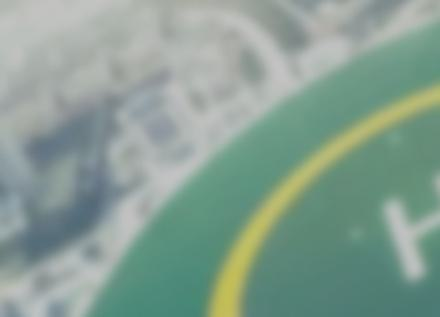Apron: (197, 75, 440, 317)
